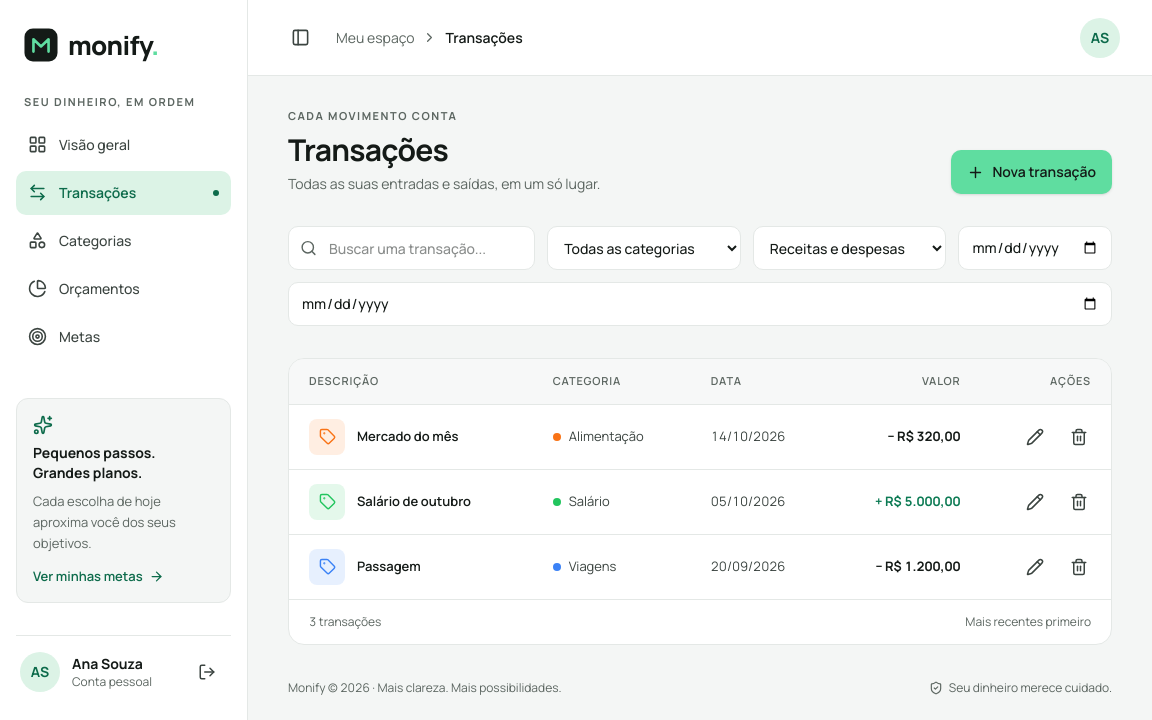
Transações › deve pedir confirmação antes de excluir
The image size is (1152, 720).
Check: the text "Mercado do mês" is shown, box [357,427,458,446]
Click the button named "Excluir Mercado do mês" at (1079,436), box [1059,416,1099,456]
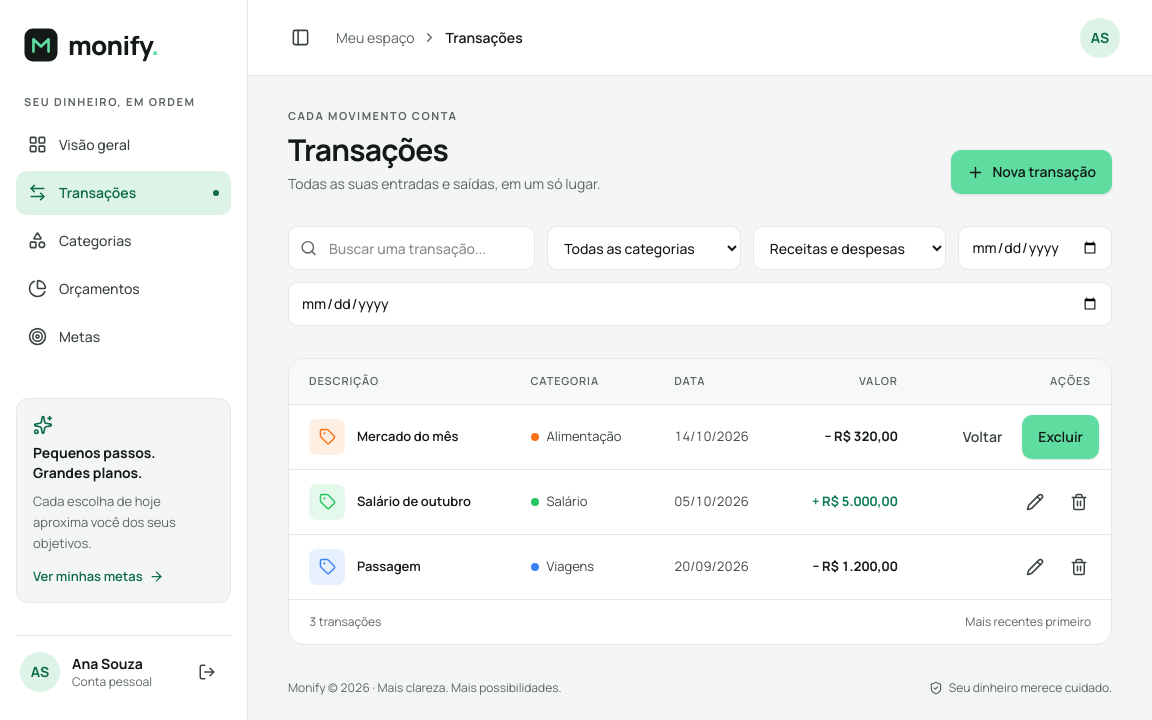
Click the button "Excluir" at (1061,436), box [1022,414,1099,458]
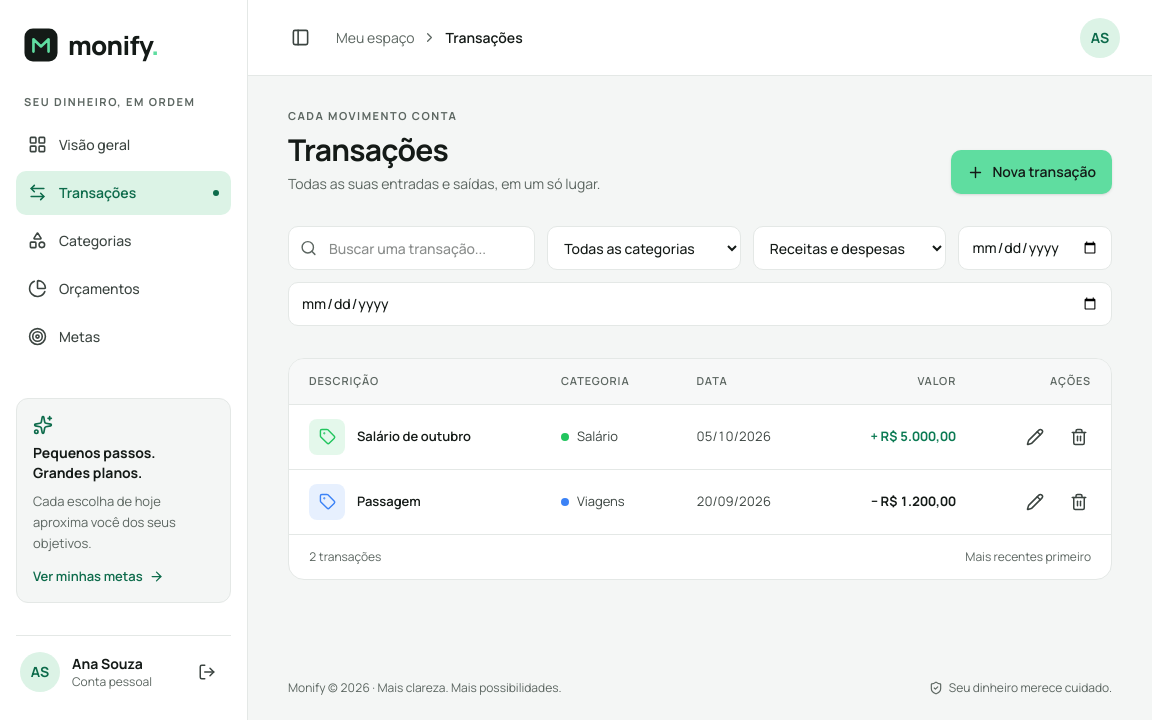
Check: the text "Mercado do mês" is gone
